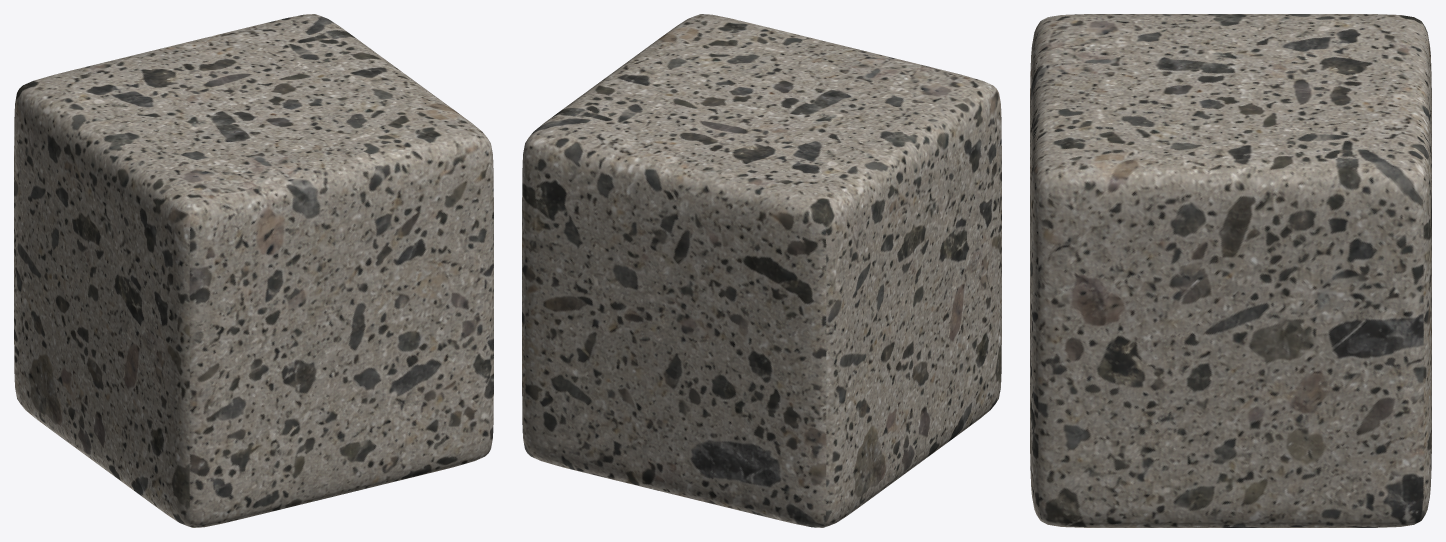
The model's file is Coconut shell biocha.fbx.
3 views of the same model, side by side, from view 1: azimuth 30°, elevation 25°; view 2: azimuth 150°, elevation 25°; view 3: azimuth 270°, elevation 25° (orthographic). The views are drawn at different scales.
Parts seen in each view (by area): view 1: Coconut shell biochar concrete_Baked; view 2: Coconut shell biochar concrete_Baked; view 3: Coconut shell biochar concrete_Baked.
Part boxes in pixels (x1=…): Coconut shell biochar concrete_Baked: x1=14, y1=14, x2=493, y2=527; Coconut shell biochar concrete_Baked: x1=522, y1=14, x2=1001, y2=527; Coconut shell biochar concrete_Baked: x1=1030, y1=14, x2=1431, y2=527.
Size of the model in its own units: 200 by 200 by 200.
1 material, 1 textured.
